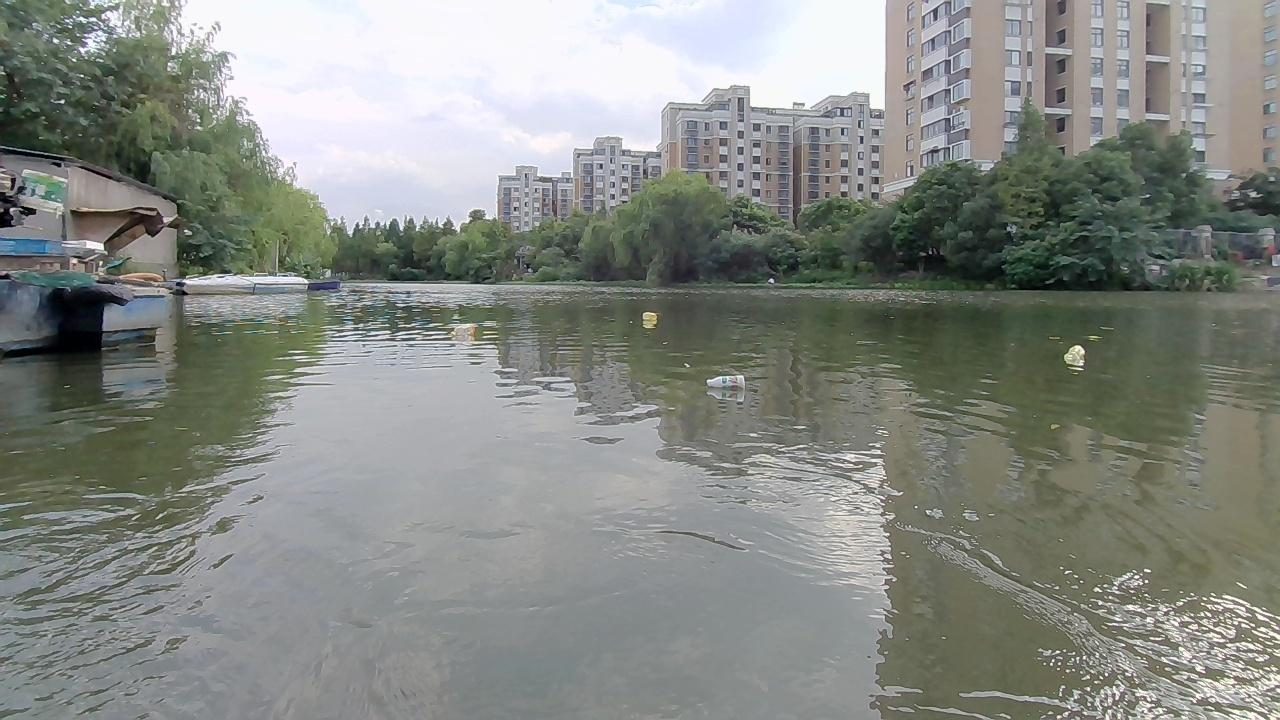bottle: (701, 370, 746, 389), (1064, 341, 1087, 367), (450, 322, 475, 339), (639, 310, 654, 323)
